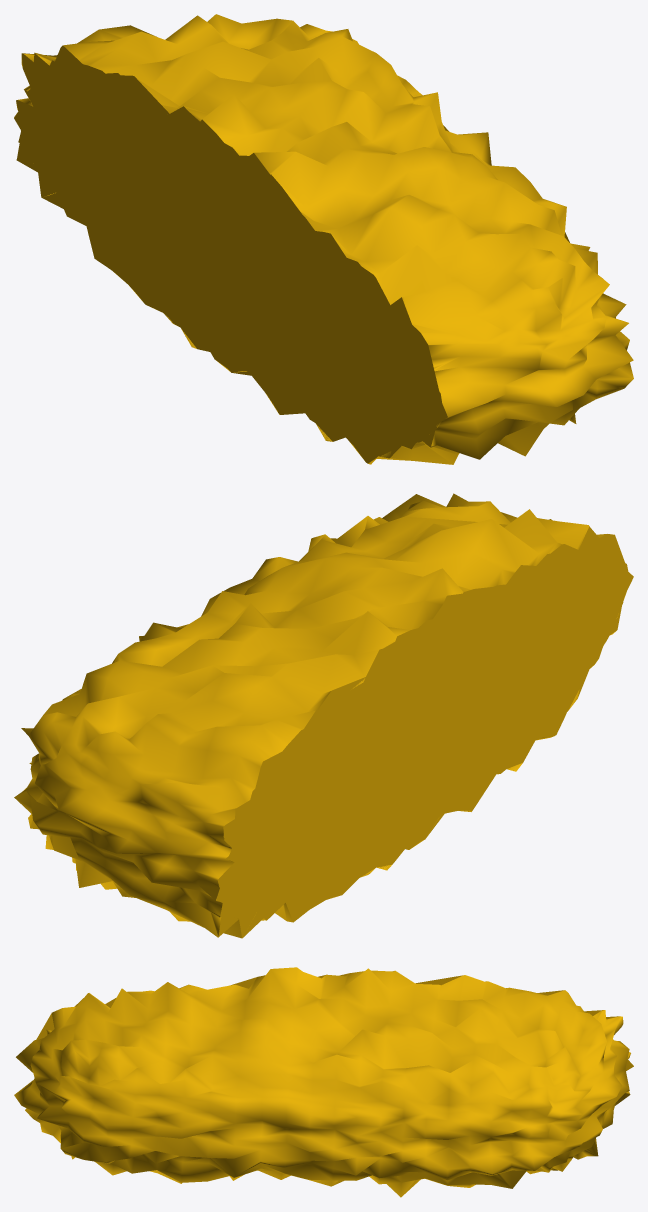
Rendered from 切ったチキン5.fbx.
3 renders of one model, top to bottom at view 1: azimuth 30°, elevation 25°; view 2: azimuth 150°, elevation 25°; view 3: azimuth 270°, elevation 25°, orthographic. The views are drawn at different scales.
Visible parts, largest first — view 1: オブジェクト; view 2: オブジェクト; view 3: オブジェクト.
Part boxes in pixels (x1=…): オブジェクト: x1=14, y1=14, x2=633, y2=464; オブジェクト: x1=14, y1=493, x2=633, y2=938; オブジェクト: x1=14, y1=967, x2=633, y2=1197.
Size of the model in its own units: 0.6581 by 0.5611 by 1.74.
